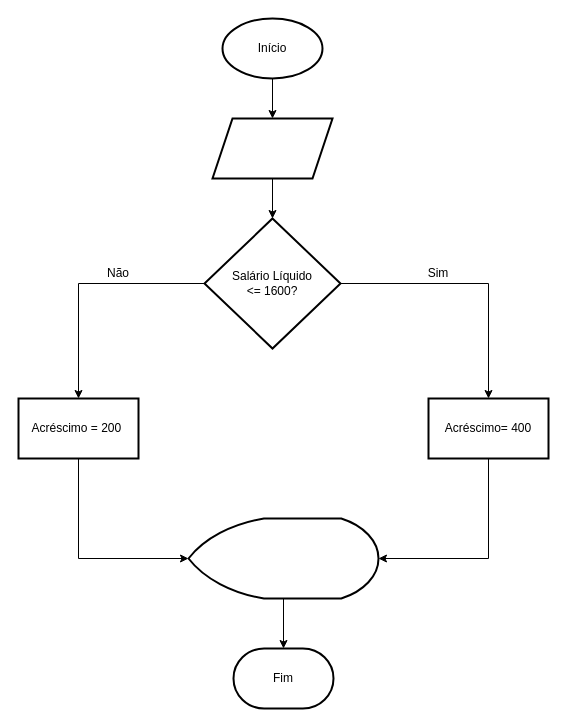
This 566x726 diagram has some shape labels left out. Here are the shapes that lost their labels. From the top down, the box of each, then its label:
(211, 117, 333, 179): Leia Salário Líquido
(187, 517, 379, 599): Salário final = Salário líquido + Acréscimo
